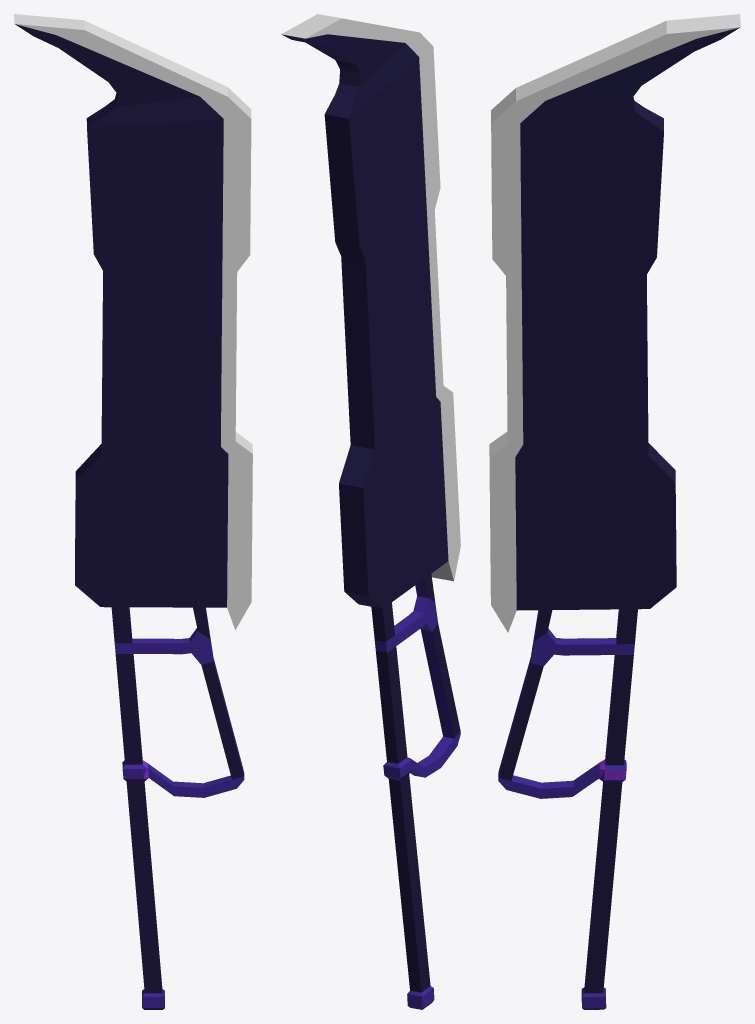
The model's file is sword.fbx.
3 renders of one model, left to right at view 1: azimuth 90°, elevation 25°; view 2: azimuth 150°, elevation 25°; view 3: azimuth 270°, elevation 25°, orthographic. The views are drawn at different scales.
Parts seen in each view (by area): view 1: Blade, EdgeOutline, Handle; view 2: Blade, Handle, EdgeOutline; view 3: Blade, EdgeOutline, Handle.
Boxes of the visible parts, x1,y1,x2,y2 form: Blade: (15, 24, 228, 607); EdgeOutline: (14, 14, 252, 629); Handle: (111, 607, 244, 1009); Blade: (281, 34, 448, 608); Handle: (371, 574, 460, 1009); EdgeOutline: (281, 14, 460, 581); Blade: (515, 27, 739, 610); EdgeOutline: (489, 14, 740, 632); Handle: (498, 609, 637, 1009).
Size of the model in its own units: 29.33 by 380 by 85.34.
